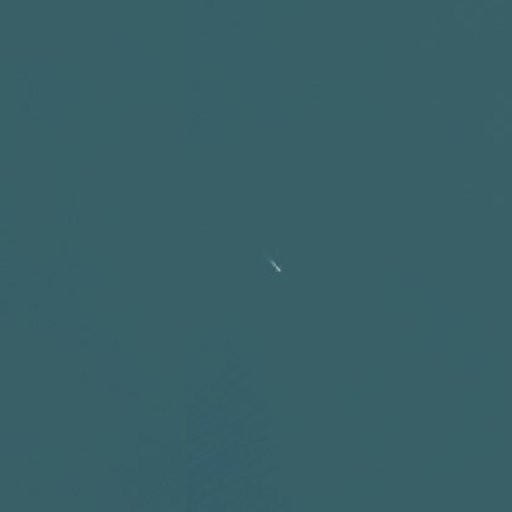ship: (266, 257, 285, 275)
